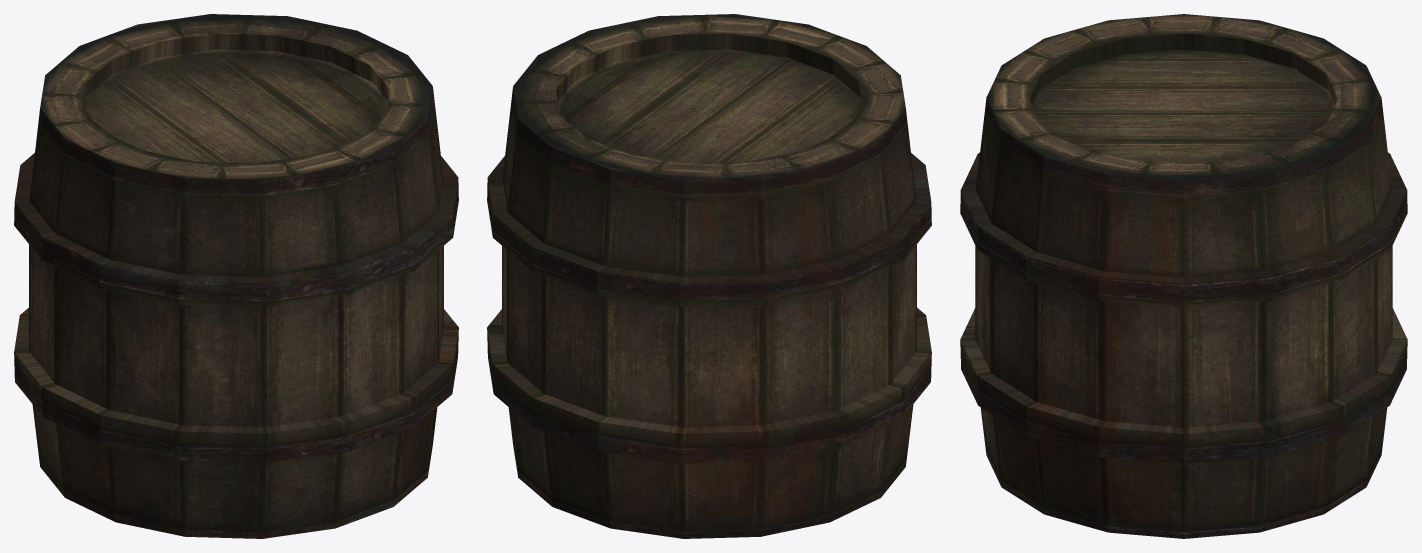
The model's file is BarrilV2.fbx.
The picture shows the model from 3 angles, left to right: view 1: azimuth 30°, elevation 25°; view 2: azimuth 150°, elevation 25°; view 3: azimuth 270°, elevation 25°; orthographic projection.
Visible parts, largest first — view 1: Cylinder; view 2: Cylinder; view 3: Cylinder.
Part boxes in pixels (bbox=[...]): Cylinder: bbox=[14, 14, 458, 538]; Cylinder: bbox=[487, 14, 931, 538]; Cylinder: bbox=[960, 14, 1407, 538].
Size of the model in its own units: 267 by 236 by 267.
1 material, 1 textured.
